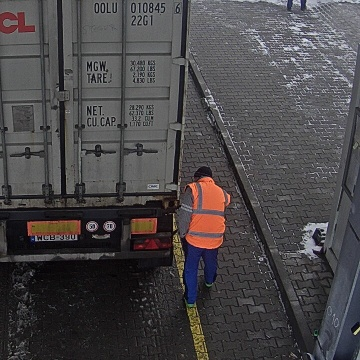serial_id: (94, 2, 180, 13)
